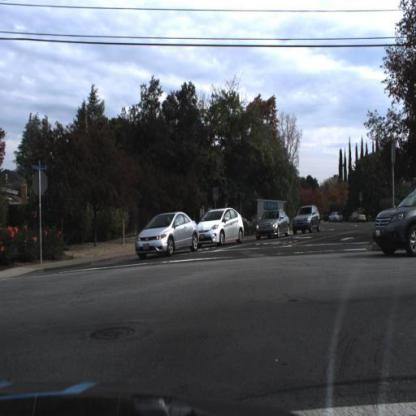car: (372, 186, 416, 259), (135, 213, 202, 258), (193, 207, 246, 247), (255, 209, 293, 241), (293, 205, 323, 237)
